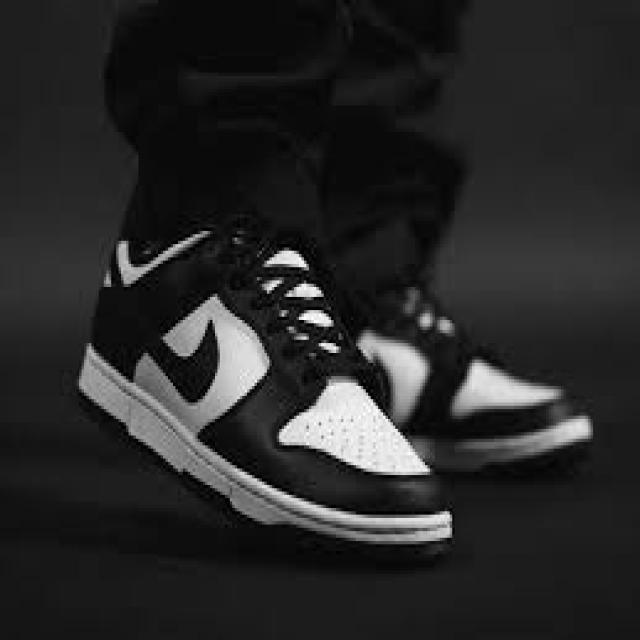shoes: (74, 210, 456, 570)
